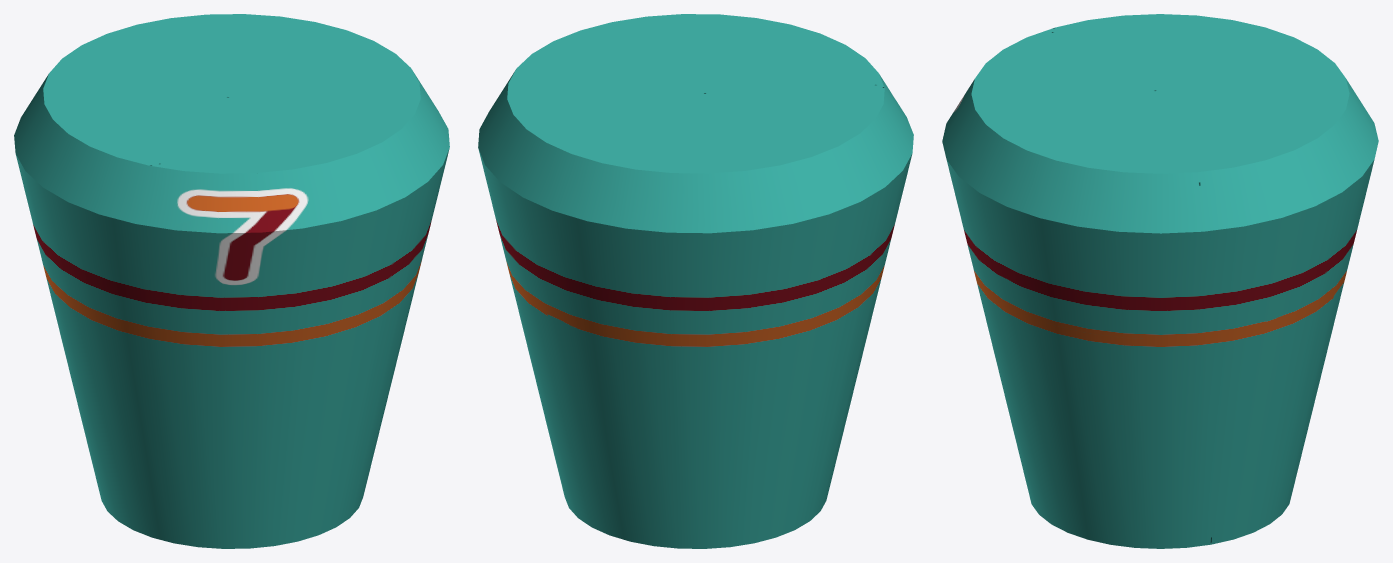
Rendered from BigBody.obj.
3 views of the same model, side by side, from view 1: azimuth 30°, elevation 25°; view 2: azimuth 150°, elevation 25°; view 3: azimuth 270°, elevation 25° (orthographic).
Visible parts, largest first — view 1: bigBody_Sphere.004; view 2: bigBody_Sphere.004; view 3: bigBody_Sphere.004.
Part boxes in pixels (<box>): bigBody_Sphere.004: <box>14,14,449,548</box>; bigBody_Sphere.004: <box>478,14,913,548</box>; bigBody_Sphere.004: <box>942,14,1378,548</box>.
Size of the model in its own units: 1.98 by 2 by 1.98.
